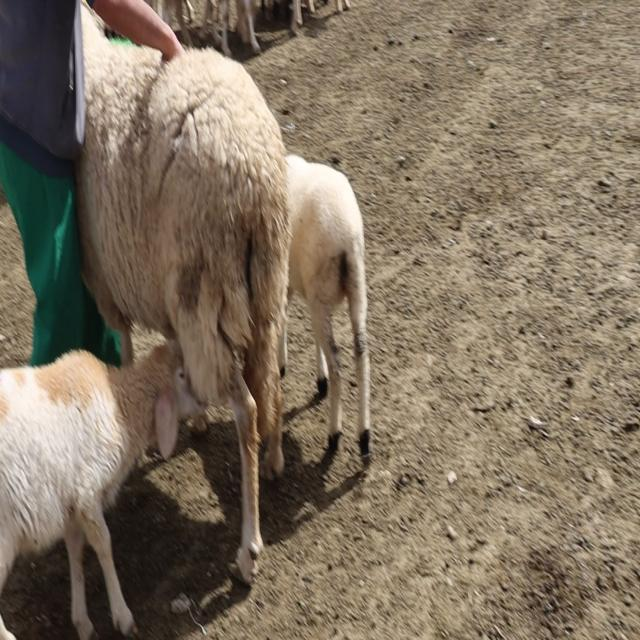Score_5: (77, 9, 291, 583)
